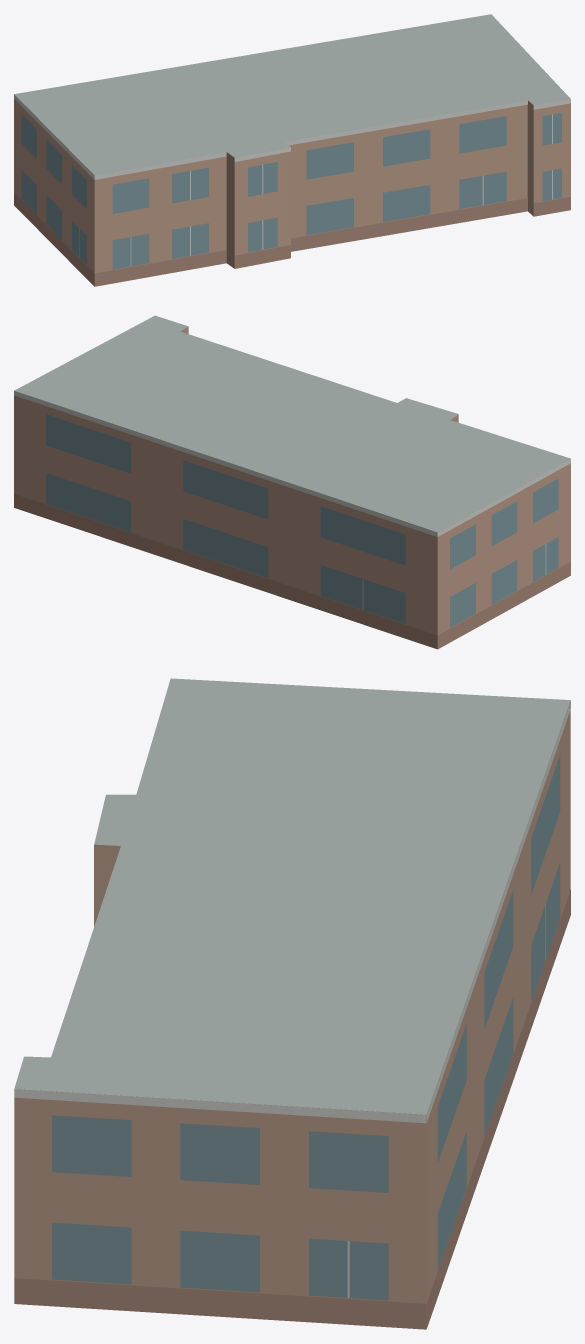
Rendered from survey-upis-32876432.glb.
The picture shows the model from 3 angles, top to bottom: view 1: azimuth 30°, elevation 25°; view 2: azimuth 150°, elevation 25°; view 3: azimuth 270°, elevation 25°; orthographic projection. The views are drawn at different scales.
Visible parts, largest first — view 1: survey-upis-32876432.tmp; view 2: survey-upis-32876432.tmp; view 3: survey-upis-32876432.tmp.
Boxes of the visible parts, x1,y1,x2,y2 form: survey-upis-32876432.tmp: (14, 14, 570, 286); survey-upis-32876432.tmp: (14, 315, 570, 649); survey-upis-32876432.tmp: (14, 678, 570, 1329).
Size of the model in its own units: 26.59 by 6.1 by 14.34.
